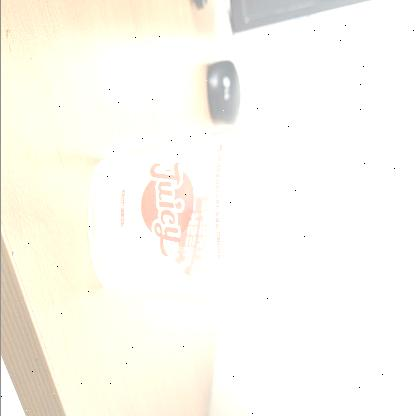Others: (88, 98, 288, 333)
